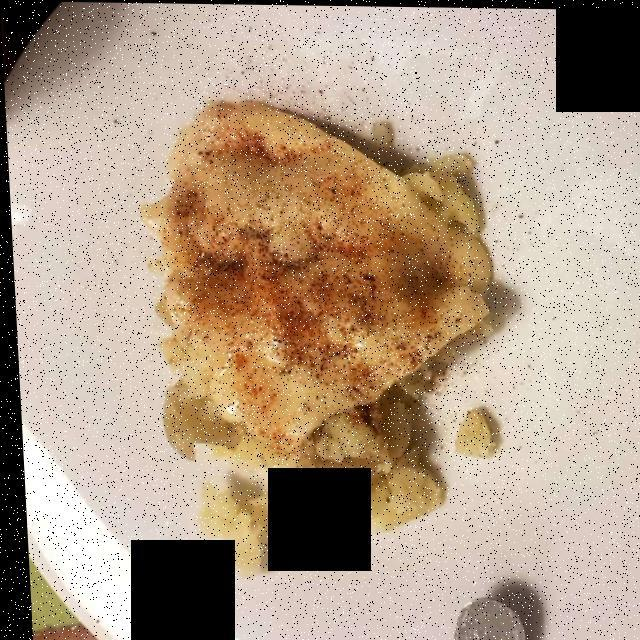cheese: (163, 105, 477, 445)
potatoes: (149, 150, 487, 586)
